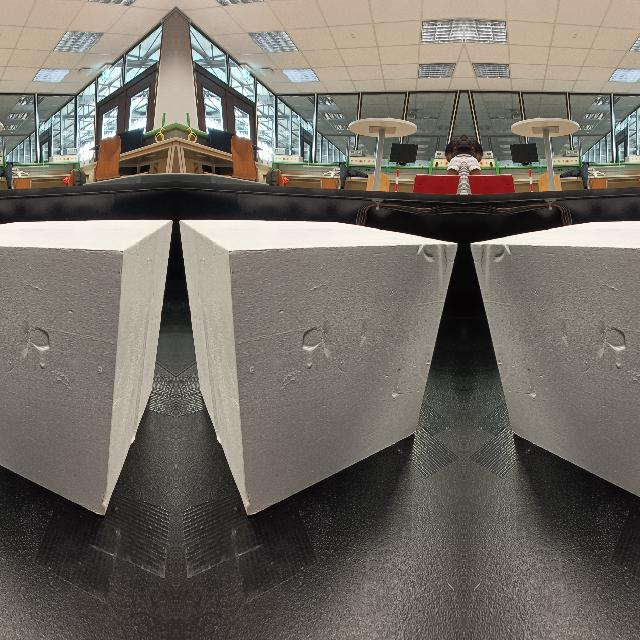obstacle: (177, 218, 459, 516), (0, 217, 173, 516), (468, 217, 640, 516)
